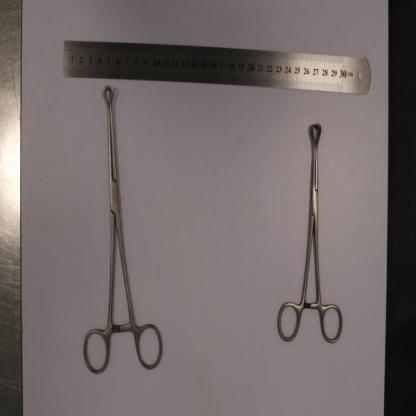8 Babcock Tissue Forceps: (84, 85, 162, 372)
Babcock Tissue Forceps: (278, 124, 343, 344)
